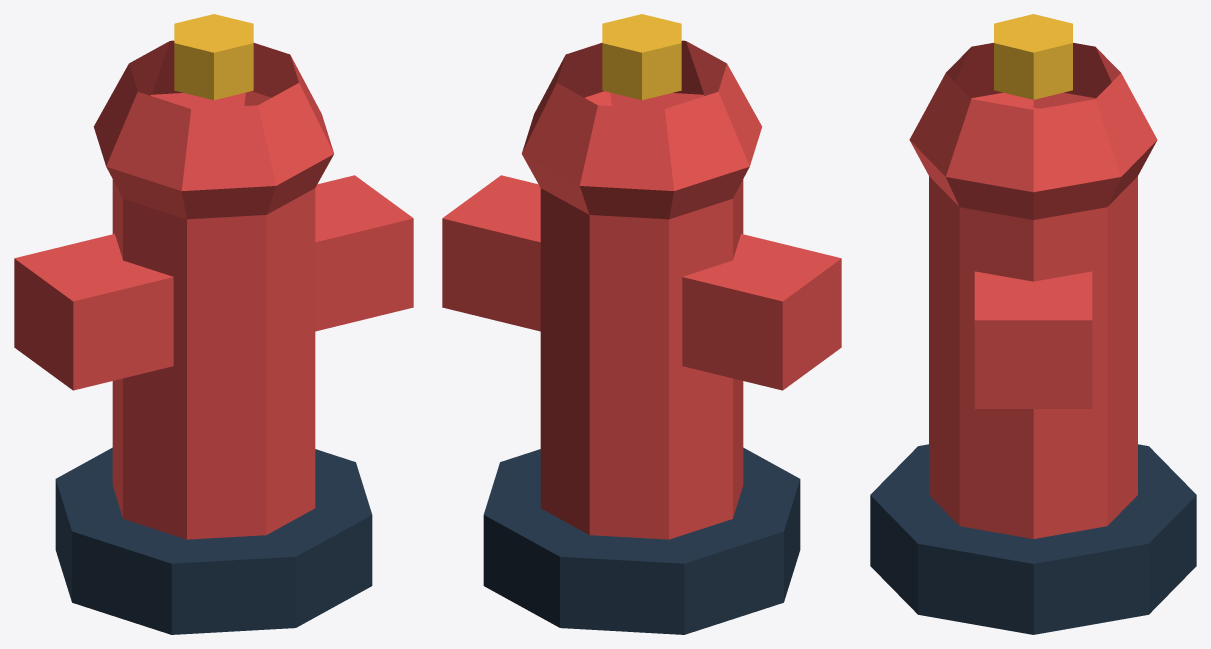
The model's file is 22_hydrant.obj.
The picture shows the model from 3 angles, left to right: view 1: azimuth 30°, elevation 25°; view 2: azimuth 150°, elevation 25°; view 3: azimuth 270°, elevation 25°; orthographic projection.
Visible parts, largest first — view 1: part_0, part_1, part_3, part_2, part_4; view 2: part_0, part_1, part_3, part_2, part_4; view 3: part_0, part_1, part_2, part_3, part_4.
Boxes of the visible parts, x1,y1,x2,y2 form: part_0: (112, 179, 315, 539); part_1: (55, 447, 372, 634); part_3: (14, 175, 413, 390); part_2: (93, 40, 333, 219); part_4: (174, 14, 253, 100); part_0: (540, 179, 743, 539); part_1: (483, 447, 800, 634); part_3: (442, 175, 841, 390); part_2: (522, 40, 762, 219); part_4: (602, 14, 681, 100); part_0: (929, 107, 1137, 538); part_1: (870, 444, 1196, 634); part_2: (909, 42, 1157, 219); part_3: (974, 271, 1092, 408); part_4: (994, 14, 1072, 99).
Bounding box in the file's own units: 0.6 × 0.9 × 0.5.
